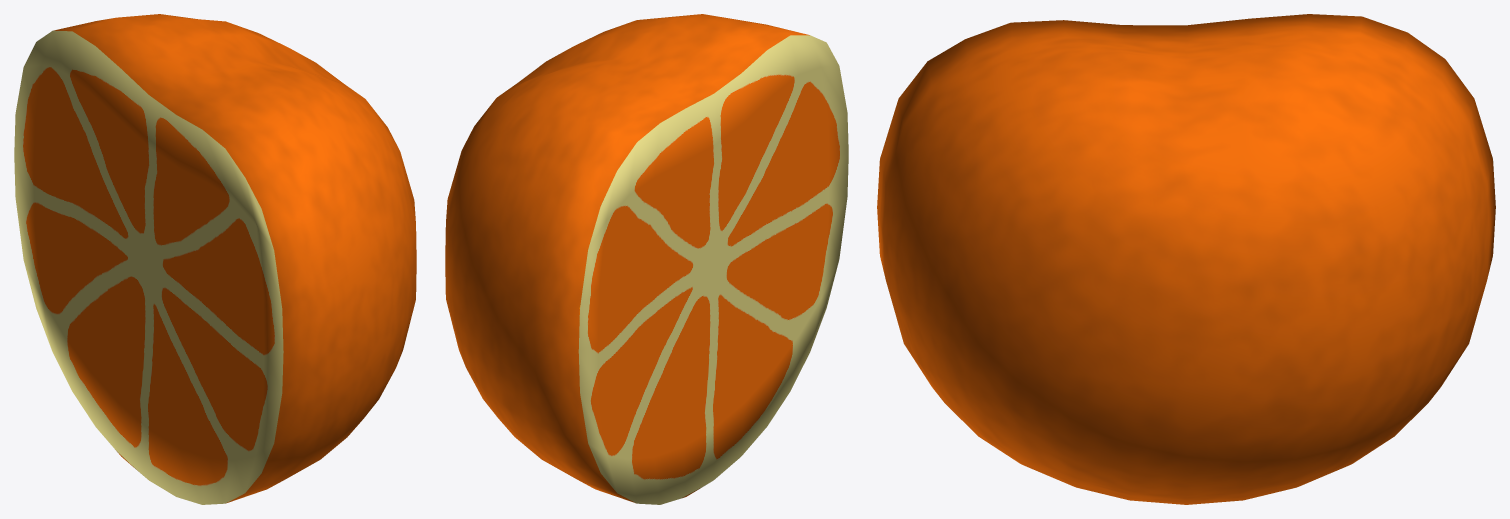
The model's file is orangeHalved.fbx.
3 views of the same model, side by side, from view 1: azimuth 30°, elevation 25°; view 2: azimuth 150°, elevation 25°; view 3: azimuth 270°, elevation 25° (orthographic). The views are drawn at different scales.
Visible parts, largest first — view 1: orangeHalved_LOD0; view 2: orangeHalved_LOD0; view 3: orangeHalved_LOD0.
Part boxes in pixels (x1,y1,x2,y2): orangeHalved_LOD0: (14,14,416,504); orangeHalved_LOD0: (445,14,848,504); orangeHalved_LOD0: (877,14,1495,504).
Size of what is drawn, in the model's own units: 0.0601 by 0.1005 by 0.1213.
Materials: 1 (1 with a texture image).
